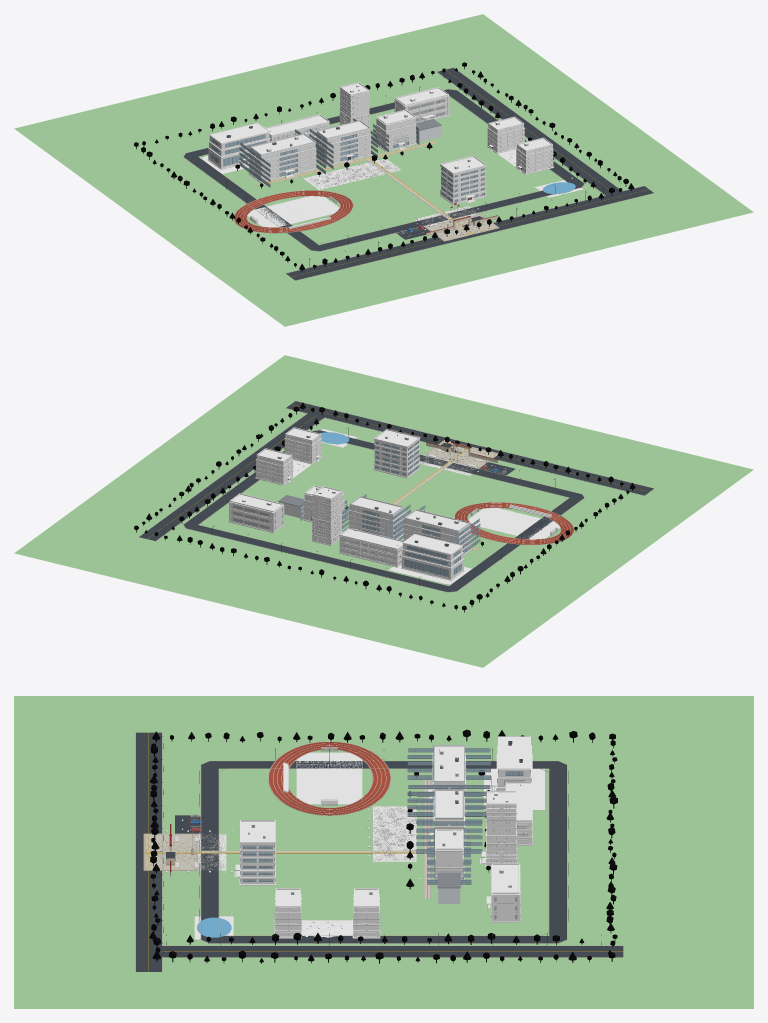
File: overview.glb
3 views of the same model, one above another, from view 1: azimuth 30°, elevation 25°; view 2: azimuth 150°, elevation 25°; view 3: azimuth 270°, elevation 25° (orthographic). The views are drawn at different scales.
Parts seen in each view (by area): view 1: OV_ASSEMBLY_ground, road_S_main, road_E_main, track_ring, road_ring_S, Lawn_TeachSouth, road_ring_W, bldA_body_F1_F4, bldB_body_F1_F4, plaza_south_gate, lib_body_F2_F6, road_ring_E (+5 smaller); view 2: OV_ASSEMBLY_ground, road_S_main, road_E_main, road_ring_N, track_ring, road_ring_W, road_ring_S, plaza_south_gate, bldB_body_F1_F4, lib_body_F2_F6, road_ring_E, dormA_body_F1_F4 (+3 smaller); view 3: OV_ASSEMBLY_ground, road_S_main, road_E_main, road_ring_N, track_ring, road_ring_S, Lawn_TeachSouth, road_ring_E, road_ring_W, plaza_south_gate, ov-gym_roofslab, ovw_roofdeck_A (+11 smaller).
Boxes of the visible parts, left/top/right/bottom form: OV_ASSEMBLY_ground: left=14, top=14, right=753, bottom=326; road_S_main: left=286, top=186, right=653, bottom=280; road_E_main: left=437, top=68, right=622, bottom=195; track_ring: left=234, top=190, right=352, bottom=232; road_ring_S: left=319, top=188, right=575, bottom=249; Lawn_TeachSouth: left=303, top=159, right=401, bottom=189; road_ring_W: left=187, top=156, right=318, bottom=247; bldA_body_F1_F4: left=249, top=148, right=316, bottom=181; bldB_body_F1_F4: left=316, top=135, right=370, bottom=164; plaza_south_gate: left=425, top=213, right=498, bottom=241; lib_body_F2_F6: left=441, top=167, right=485, bottom=198; road_ring_E: left=449, top=92, right=580, bottom=183; OV_ASSEMBLY_ground: left=14, top=355, right=753, bottom=667; road_S_main: left=286, top=401, right=653, bottom=495; road_E_main: left=139, top=413, right=323, bottom=540; road_ring_N: left=192, top=525, right=448, bottom=590; track_ring: left=455, top=502, right=573, bottom=544; road_ring_W: left=449, top=497, right=580, bottom=588; road_ring_S: left=325, top=431, right=575, bottom=497; plaza_south_gate: left=425, top=440, right=497, bottom=467; bldB_body_F1_F4: left=349, top=511, right=404, bottom=538; lib_body_F2_F6: left=374, top=440, right=419, bottom=471; road_ring_E: left=187, top=451, right=284, bottom=524; dormA_body_F1_F4: left=256, top=460, right=292, bottom=484; OV_ASSEMBLY_ground: left=14, top=696, right=753, bottom=1008; road_S_main: left=136, top=732, right=161, bottom=971; road_E_main: left=162, top=946, right=623, bottom=956; road_ring_N: left=549, top=768, right=566, bottom=935; track_ring: left=268, top=742, right=390, bottom=815; road_ring_S: left=201, top=768, right=218, bottom=935; Lawn_TeachSouth: left=373, top=806, right=416, bottom=861; road_ring_E: left=218, top=936, right=549, bottom=943; road_ring_W: left=218, top=761, right=549, bottom=768; plaza_south_gate: left=143, top=833, right=197, bottom=870; ov-gym_roofslab: left=498, top=737, right=530, bottom=769; ovw_roofdeck_A: left=434, top=746, right=463, bottom=780.
Bounding box in the file's own units: 340 × 33.57 × 340.
191 materials, 7 textured.
